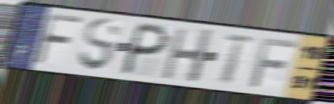F: (31, 11, 86, 67), (248, 37, 300, 90)
H: (160, 26, 216, 85)
P: (117, 21, 172, 78)
S: (76, 17, 123, 74)
T: (219, 33, 255, 87)
